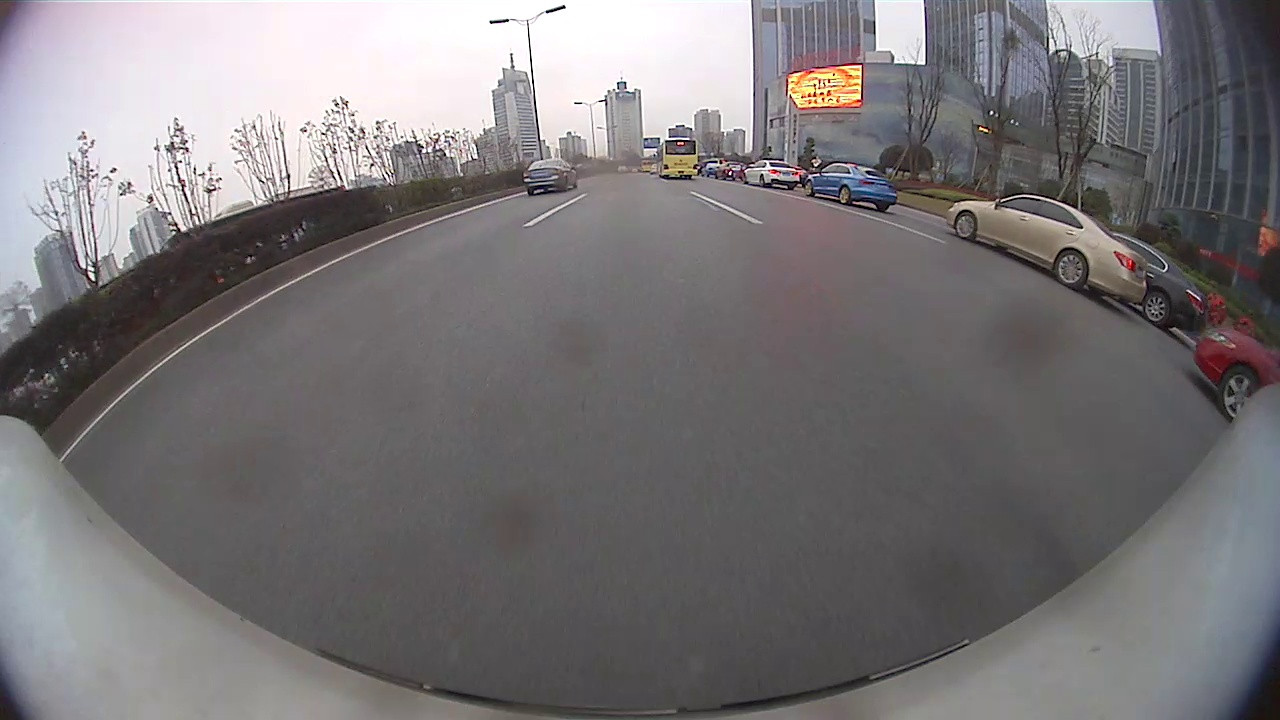bus: (655, 135, 700, 180)
car: (944, 188, 1153, 305), (1091, 226, 1217, 334), (1192, 319, 1278, 426), (800, 159, 900, 213), (520, 156, 580, 197), (740, 157, 808, 191), (713, 160, 747, 182)
front: (1219, 368, 1262, 426), (953, 214, 977, 242), (804, 181, 815, 198)
rear: (1056, 250, 1088, 286), (1142, 291, 1172, 327), (837, 187, 852, 205)
